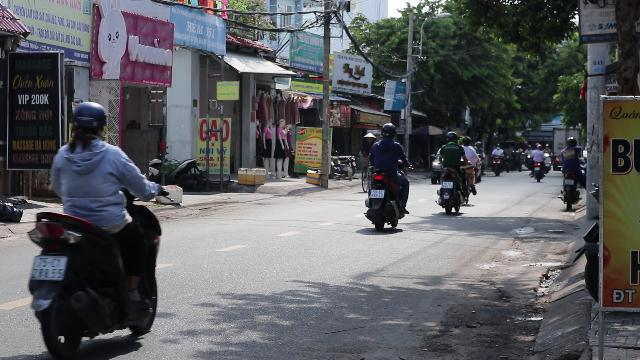helmet: (67, 101, 107, 143), (379, 122, 396, 139)
licenseplate: (30, 256, 66, 278), (370, 189, 384, 197)
motorcyclist: (23, 100, 168, 358), (361, 122, 411, 231)
